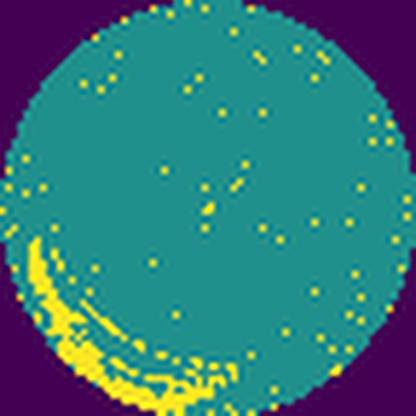Edge-Loc: (19, 232, 242, 416)
